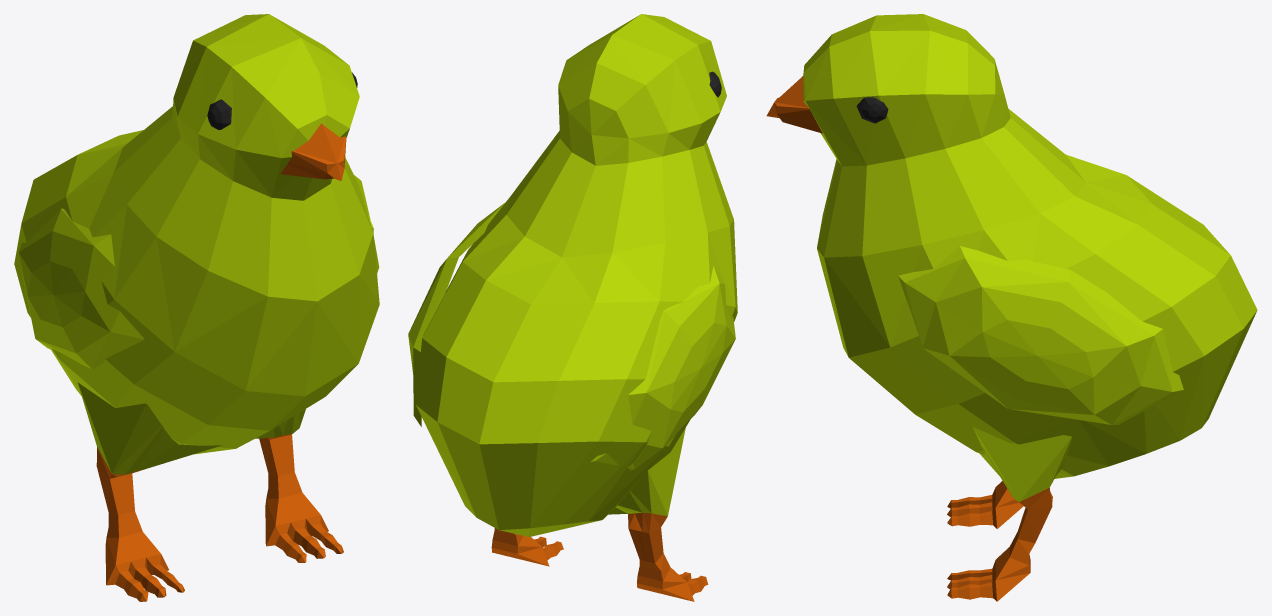
The model's file is chick-lowpoly.glb.
3 renders of one model, left to right at view 1: azimuth 30°, elevation 25°; view 2: azimuth 150°, elevation 25°; view 3: azimuth 270°, elevation 25°, orthographic. The views are drawn at different scales.
Parts seen in each view (by area): view 1: Sphere, Cube, Sphere_002, Cube_001, Sphere_001; view 2: Sphere, Sphere_002, Cube; view 3: Sphere, Sphere_002, Cube, Cube_001.
Boxes of the visible parts, left/top/right/bottom form: Sphere: left=14, top=14, right=379, bottom=454; Cube: left=77, top=382, right=343, bottom=601; Sphere_002: left=18, top=175, right=379, bottom=370; Cube_001: left=280, top=123, right=346, bottom=181; Sphere_001: left=207, top=72, right=357, bottom=129; Sphere: left=416, top=14, right=737, bottom=536; Sphere_002: left=408, top=203, right=735, bottom=470; Cube: left=491, top=428, right=708, bottom=601; Sphere: left=803, top=14, right=1257, bottom=478; Sphere_002: left=898, top=246, right=1183, bottom=424; Cube: left=947, top=427, right=1071, bottom=601; Cube_001: left=766, top=75, right=822, bottom=133.
Bounding box in the file's own units: 5.58 × 10.53 × 8.86.
